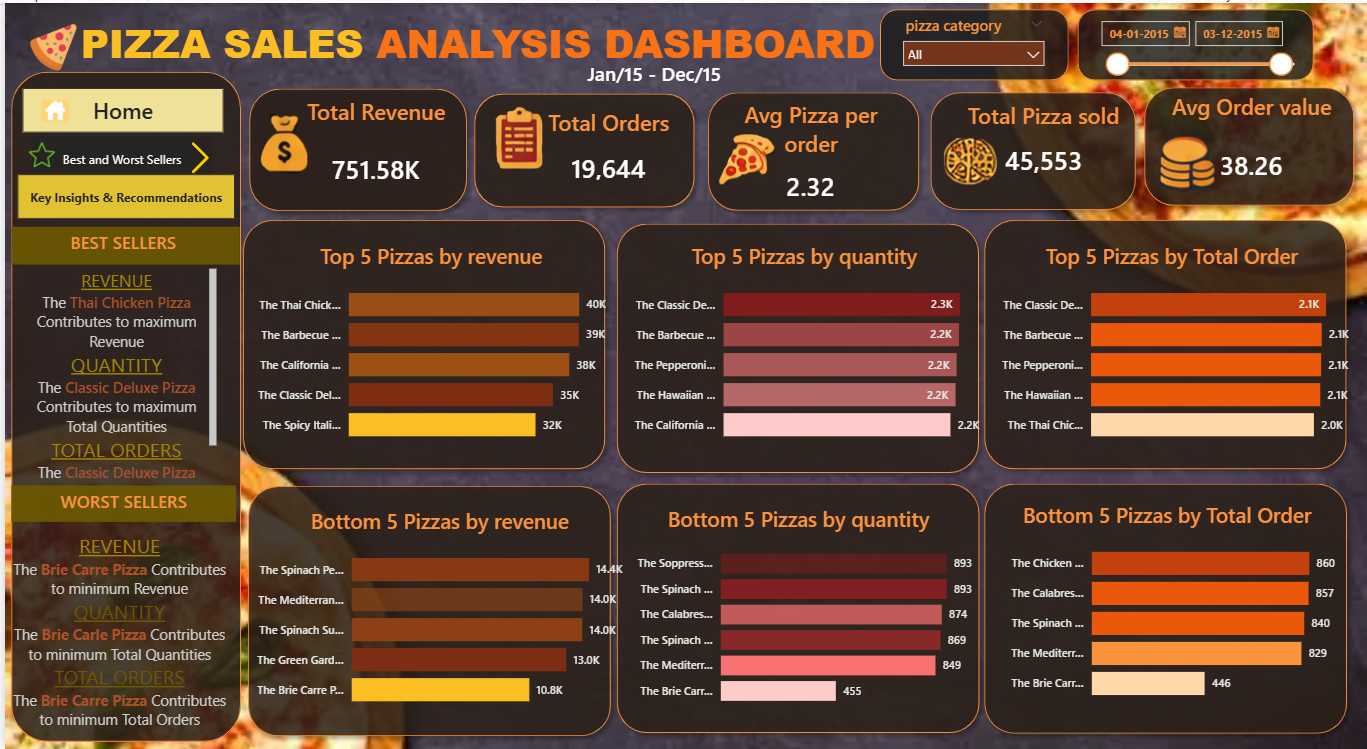

This screenshot's page, from the dashboard's own definition file:
{"tool":"powerbi","page":{"name":"Home","canvas":[1500,820],"ordinal":0},"visuals":[{"type":"shape","box":[1243.5,83.8,248.6,148],"z":0,"group":"g4"},{"type":"group","id":"g1","title":"Group 1","box":[259.7,85.2,256.9,152.5],"z":0},{"type":"shape","box":[259.7,85.2,256.9,152.5],"z":0,"group":"g1"},{"type":"shape","box":[764.6,89.3,250,148],"z":0,"group":"g2"},{"type":"shape","box":[1008.5,89.3,243.3,147],"z":0,"group":"g3"},{"type":"shape","box":[507,90.7,259.7,142.9],"z":0,"group":"g5"},{"type":"group","id":"g2","title":"Group 1","box":[750.2,89.3,263.8,148.4],"z":1000},{"type":"cardVisual","title":"Avg Order value","fields":{"Data":["pizza_sales pizza_sales.Total_avg_ordervalue"]},"box":[1259.2,98,224,127.8],"z":1000,"group":"g4"},{"type":"cardVisual","title":"Total Revenue ","fields":{"Data":["pizza_sales pizza_sales.Total_revenue"]},"box":[303.8,102.7,208.8,123.7],"z":1000,"group":"g1"},{"type":"cardVisual","title":"Avg Pizza per order","fields":{"Data":["pizza_sales pizza_sales.avg_pizza_per_ordered"]},"box":[795.4,105.6,181,124.3],"z":1000,"group":"g2"},{"type":"cardVisual","title":"Total Pizza sold","fields":{"Data":["pizza_sales pizza_sales.Total_pizza_sold"]},"box":[1044.5,107.1,195.1,97.6],"z":1000,"group":"g3"},{"type":"cardVisual","title":"Total Orders","fields":{"Data":["pizza_sales pizza_sales.Total_orders"]},"box":[548.5,116.1,230.8,96.7],"z":1000,"group":"g5"},{"type":"group","id":"g3","title":"Group 1","box":[1008.5,89.3,243.2,147],"z":2000},{"type":"group","id":"g4","title":"Group 1","box":[1243.5,83.8,248.7,148.4],"z":3000},{"type":"group","id":"g5","title":"Group 1","box":[507,90.7,272.4,142.9],"z":3000,"group":"g6"},{"type":"textbox","box":[78.3,8.2,960.4,81.1],"z":4000},{"type":"image","box":[280.9,110.9,52.2,86.6],"z":4004,"group":"g1"},{"type":"image","box":[529,113.8,71.4,69.3],"z":4004,"group":"g6"},{"type":"image","box":[750.2,143.7,130.5,55],"z":4006,"group":"g2"},{"type":"image","box":[1256.5,146.3,86.6,59.1],"z":4006,"group":"g4"},{"type":"image","box":[1027.7,148.1,66,53.6],"z":4006,"group":"g3"},{"type":"textbox","box":[592.2,57.7,243.2,38.5],"z":5000},{"type":"image","box":[0,22,105.8,53.6],"z":6000},{"type":"group","id":"g6","title":"Group 2","box":[507,90.7,272.1,142.9],"z":7000},{"type":"columnChart","title":"Daily Trend for Total Order","fields":{"Category":["pizza_sales pizza_sales.Order Day"],"Y":["pizza_sales pizza_sales.Total_orders"]},"box":[277.5,241.8,592.2,265.2],"z":8000},{"type":"areaChart","title":"Monthly Trend for Total Order","fields":{"Category":["pizza_sales pizza_sales.Order Month"],"Y":["pizza_sales pizza_sales.Total_orders"]},"box":[882.1,241.8,592.2,265.2],"z":9000},{"type":"donutChart","title":"% of sales by Pizza category ","fields":{"Category":["pizza_sales pizza_sales.pizza_category"],"Y":["pizza_sales pizza_sales.Total_revenue"]},"box":[277.5,522.1,383.3,256.9],"z":10000},{"type":"donutChart","title":"% of sales by Pizza Size","fields":{"Category":["pizza_sales pizza_sales.pizza_size"],"Y":["pizza_sales pizza_sales.Total_revenue"]},"box":[670.5,519.4,390.2,256.9],"z":11000},{"type":"shape","box":[6.9,85.2,252.8,691.1],"z":12000},{"type":"funnel","title":"Total pizza sold by category","fields":{"Category":["pizza_sales pizza_sales.pizza_category"],"Y":["pizza_sales pizza_sales.Total_pizza_sold"]},"box":[1073.1,519.4,398.5,256.9],"z":13000},{"type":"textbox","box":[6.9,276.2,252.8,41.2],"z":14000},{"type":"textbox","box":[13.7,317.4,239.1,202],"z":15000},{"type":"textbox","box":[6.9,522.1,252.8,41.2],"z":16000},{"type":"textbox","box":[13.7,577.1,239.1,202],"z":17000},{"type":"shape","box":[961.8,6.9,207.5,78.3],"z":18000},{"type":"slicer","fields":{"Values":["pizza_sales pizza_sales.pizza_category"]},"box":[976.9,8.2,175.9,72.8],"z":19000},{"type":"shape","box":[1178.9,6.9,259.7,78.3],"z":20000},{"type":"slicer","fields":{"Values":["pizza_sales pizza_sales.order_date"]},"box":[1185.4,10.1,246,81.1],"z":21000},{"type":"pageNavigator","box":[19.3,106.1,230,49.9],"z":22000},{"type":"pageNavigator","box":[6.4,172.1,247.6,49.9],"z":23000},{"type":"image","box":[186.5,115.8,46.6,37],"z":24000},{"type":"image","box":[0,183.3,65.9,28.9],"z":25000},{"type":"image","box":[33.8,117.4,96.5,25.7],"z":26000},{"type":"pageNavigator","box":[11,225.3,239.1,41.2],"z":26001}]}

Visuals, with their boxes in screenshot pixels (x1, y1, x2, y2), scaled from the page's 1500x820 canvas onto the 1367x749 screenshot:
shape: x1=1133 y1=77 x2=1360 y2=212
"Group 1" group: x1=237 y1=78 x2=471 y2=217
shape: x1=237 y1=78 x2=471 y2=217
shape: x1=697 y1=82 x2=925 y2=217
shape: x1=919 y1=82 x2=1141 y2=216
shape: x1=462 y1=83 x2=699 y2=213
"Group 1" group: x1=684 y1=82 x2=924 y2=217
"Avg Order value" cardVisual: x1=1148 y1=90 x2=1352 y2=206
"Total Revenue " cardVisual: x1=277 y1=94 x2=467 y2=207
"Avg Pizza per order" cardVisual: x1=725 y1=96 x2=890 y2=210
"Total Pizza sold" cardVisual: x1=952 y1=98 x2=1130 y2=187
"Total Orders" cardVisual: x1=500 y1=106 x2=710 y2=194
"Group 1" group: x1=919 y1=82 x2=1141 y2=216
"Group 1" group: x1=1133 y1=77 x2=1360 y2=212
"Group 1" group: x1=462 y1=83 x2=710 y2=213
textbox: x1=71 y1=7 x2=947 y2=82
image: x1=256 y1=101 x2=304 y2=180
image: x1=482 y1=104 x2=547 y2=167
image: x1=684 y1=131 x2=803 y2=181
image: x1=1145 y1=134 x2=1224 y2=188
image: x1=937 y1=135 x2=997 y2=184
textbox: x1=540 y1=53 x2=761 y2=88
image: x1=0 y1=20 x2=96 y2=69
"Group 2" group: x1=462 y1=83 x2=710 y2=213
"Daily Trend for Total Order" columnChart: x1=253 y1=221 x2=793 y2=463
"Monthly Trend for Total Order" areaChart: x1=804 y1=221 x2=1344 y2=463
"% of sales by Pizza category " donutChart: x1=253 y1=477 x2=602 y2=712
"% of sales by Pizza Size" donutChart: x1=611 y1=474 x2=967 y2=709
shape: x1=6 y1=78 x2=237 y2=709
"Total pizza sold by category" funnel: x1=978 y1=474 x2=1341 y2=709
textbox: x1=6 y1=252 x2=237 y2=290
textbox: x1=12 y1=290 x2=230 y2=474
textbox: x1=6 y1=477 x2=237 y2=515
textbox: x1=12 y1=527 x2=230 y2=712
shape: x1=877 y1=6 x2=1066 y2=78
slicer - pizza_sales pizza_sales.pizza_category: x1=890 y1=7 x2=1051 y2=74
shape: x1=1074 y1=6 x2=1311 y2=78
slicer - pizza_sales pizza_sales.order_date: x1=1080 y1=9 x2=1304 y2=83
pageNavigator: x1=18 y1=97 x2=227 y2=142
pageNavigator: x1=6 y1=157 x2=231 y2=203
image: x1=170 y1=106 x2=212 y2=140
image: x1=0 y1=167 x2=60 y2=194
image: x1=31 y1=107 x2=119 y2=131
pageNavigator: x1=10 y1=206 x2=228 y2=243
